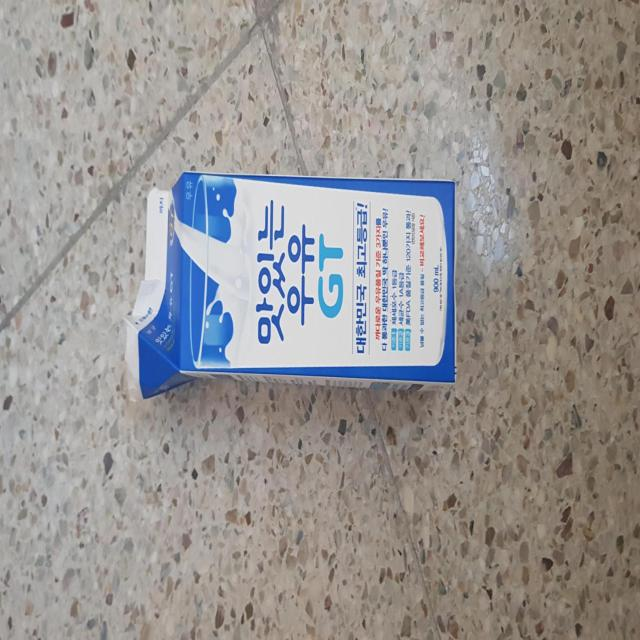paperpack: (125, 171, 456, 397)
